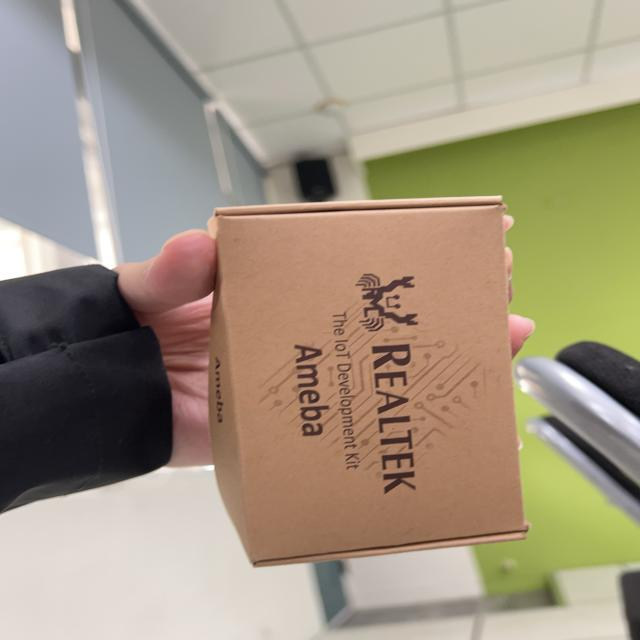box: (189, 188, 562, 578)
